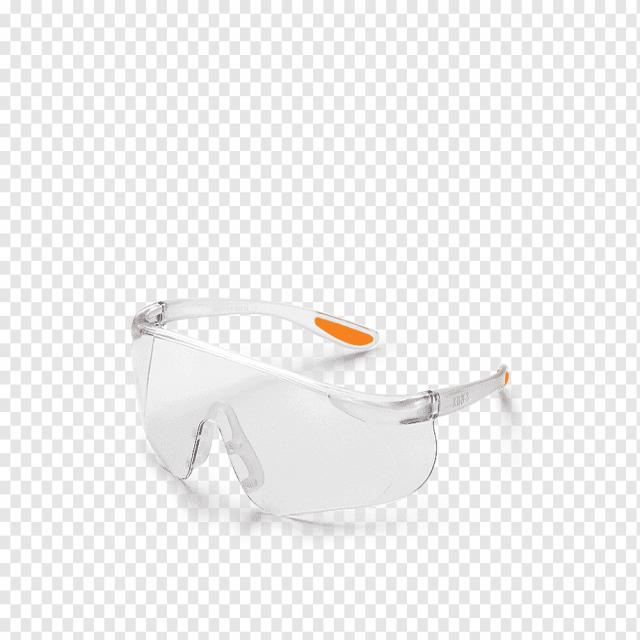Protective Glasses: (72, 232, 552, 568)
